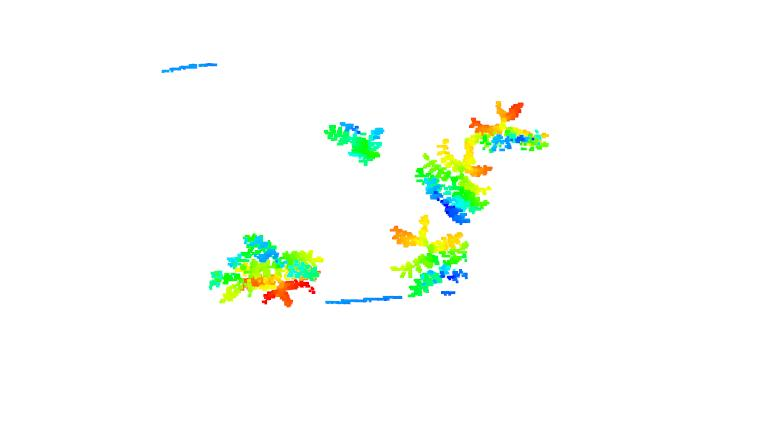chickpea: (206, 231, 327, 311), (413, 139, 492, 225), (390, 216, 471, 296), (467, 99, 550, 153), (321, 121, 386, 168)
